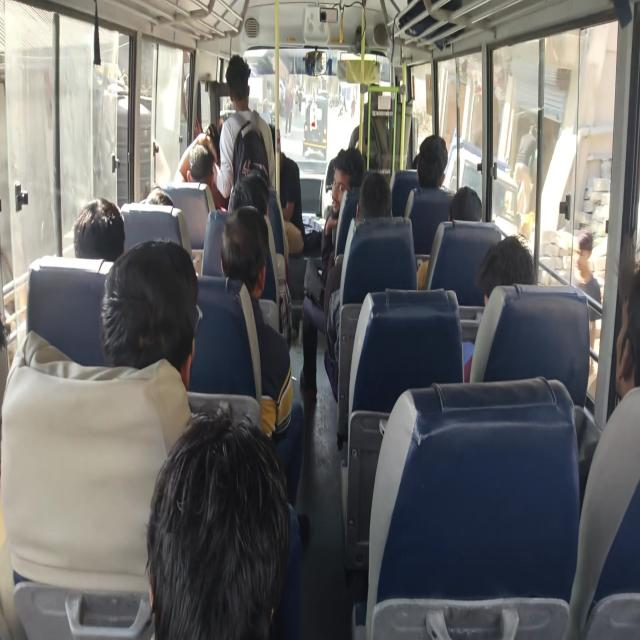person: (136, 426, 314, 640), (107, 246, 198, 363), (481, 233, 551, 339), (41, 198, 132, 272), (208, 204, 270, 294), (330, 160, 378, 235), (226, 56, 265, 140), (135, 180, 182, 244), (607, 313, 640, 387), (421, 133, 450, 206), (452, 186, 483, 253), (265, 119, 300, 174), (366, 180, 401, 233), (232, 175, 274, 217), (182, 160, 222, 202), (401, 146, 434, 189), (194, 117, 228, 158)
